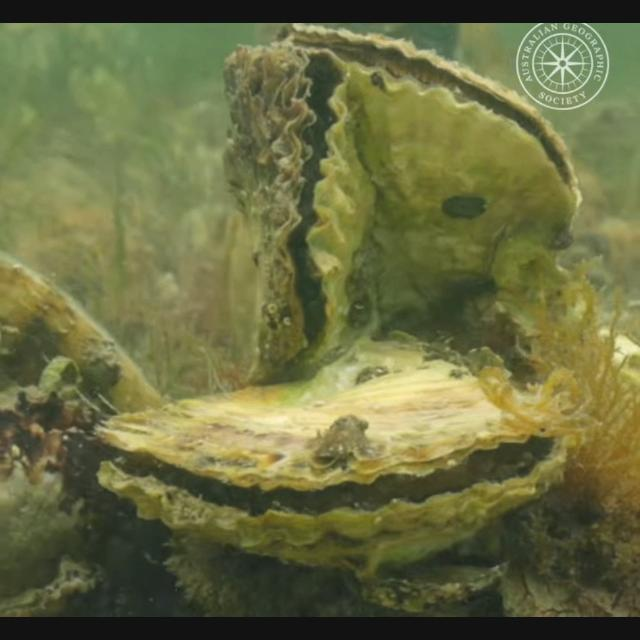Oyster-Closed: (0, 249, 170, 428)
Oyster-Open: (95, 334, 570, 584), (276, 24, 580, 352), (223, 44, 377, 390)
